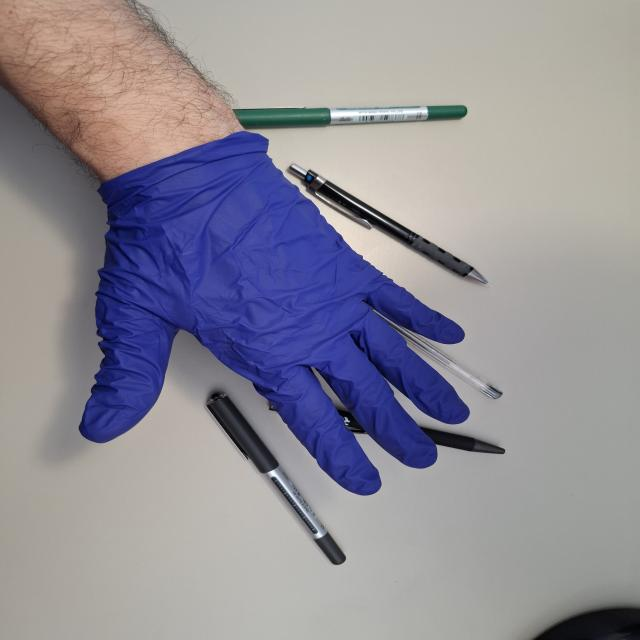glove_on: (76, 129, 473, 500)
